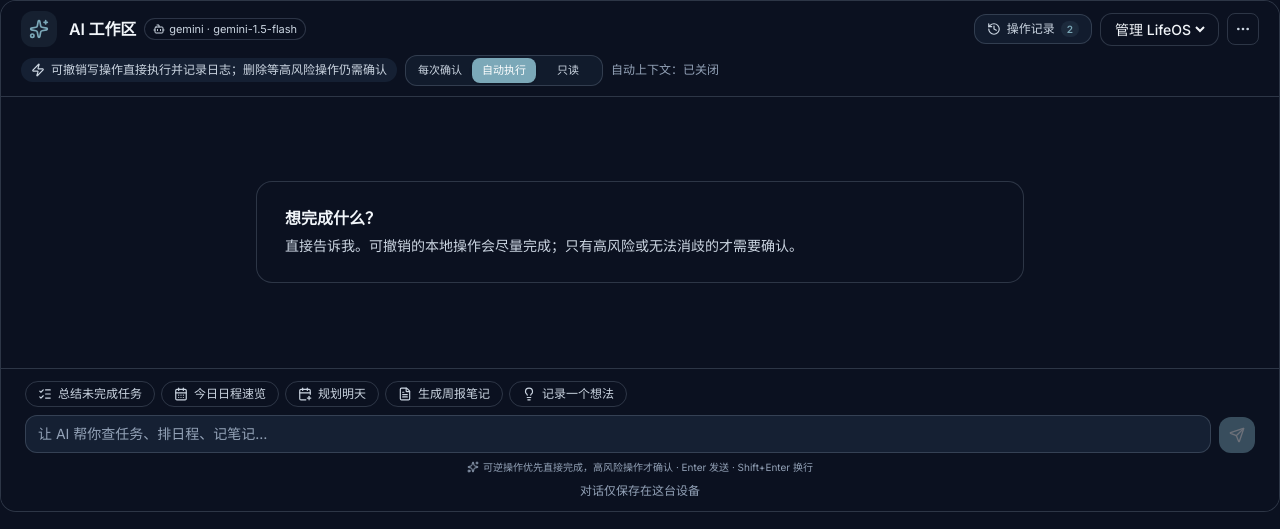
Scenario: AICommandCenter — full management loop › chat mode renders JSON and action-like content without executing it
Select "普通聊天" in the dropdown named "AI 模式" at {"x": 1160, "y": 29}, box left=1111, top=20, right=1208, bottom=38
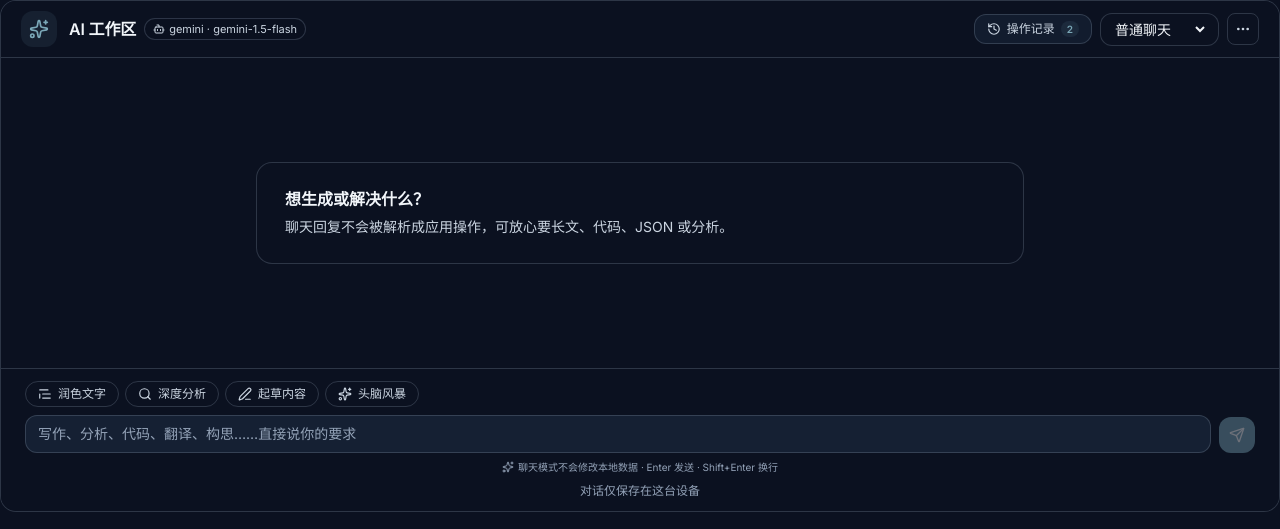
Type "请把这段 JSON 原样输出" into the text box with test id "agent-composer-input" at {"x": 618, "y": 434}, box left=25, top=415, right=1211, bottom=453
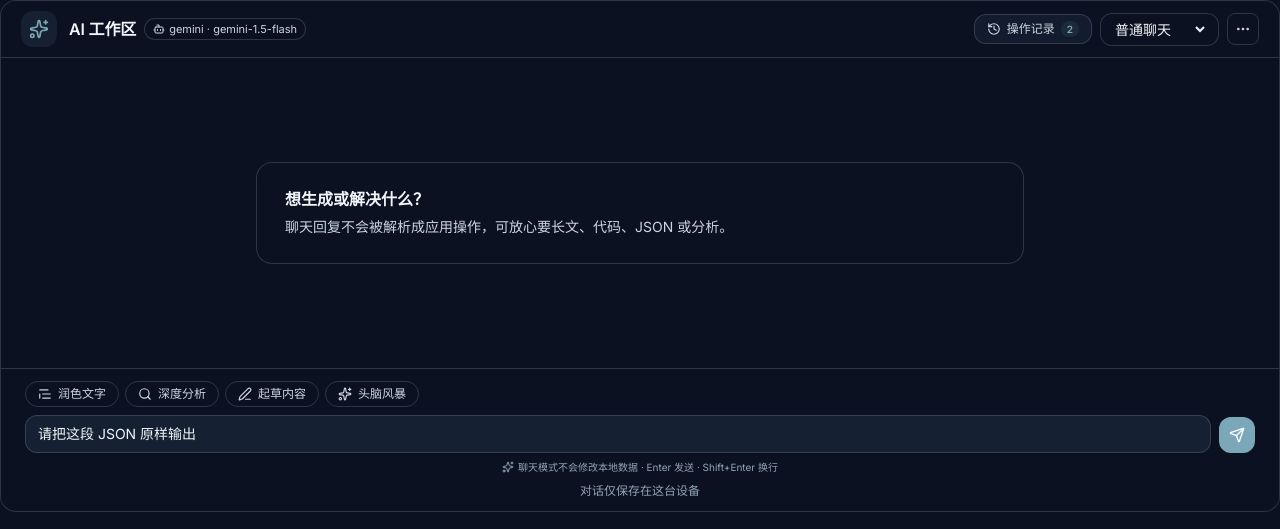
Click the button named "发送" at {"x": 1237, "y": 435}, box left=1219, top=417, right=1255, bottom=453
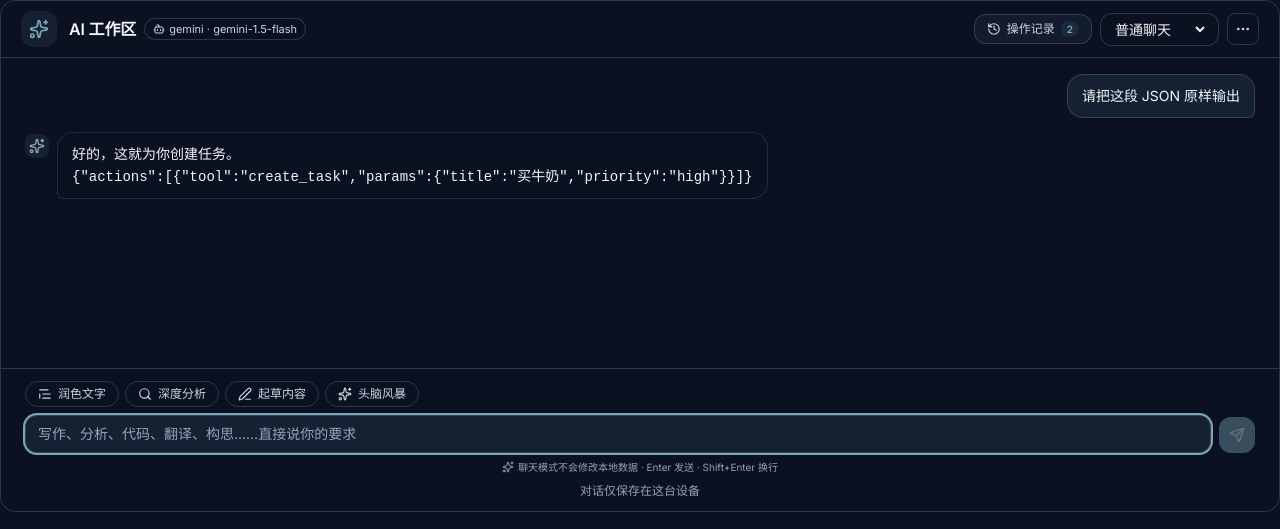
expect the text "create_task" is shown: met, box left=72, top=169, right=752, bottom=185
